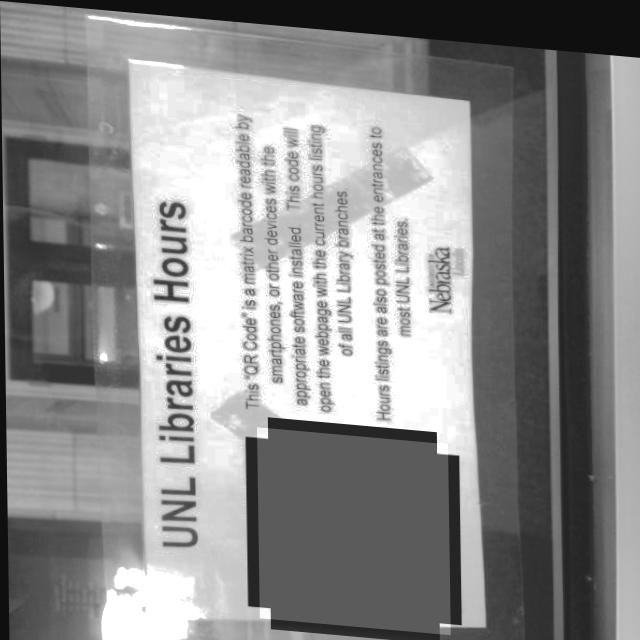qr_code: (256, 422, 449, 626)
